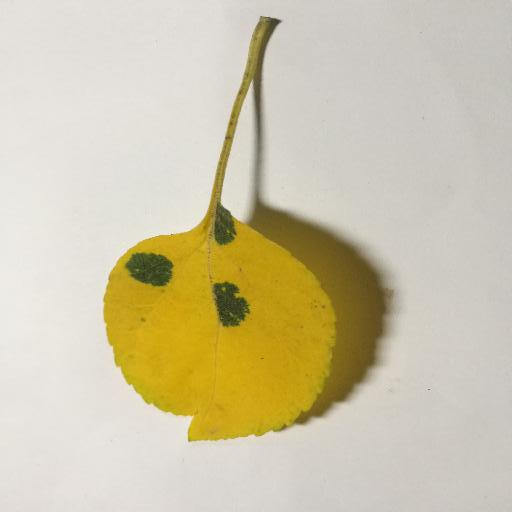Brown_Spot: (120, 244, 165, 286), (212, 209, 239, 256), (218, 288, 246, 325)
